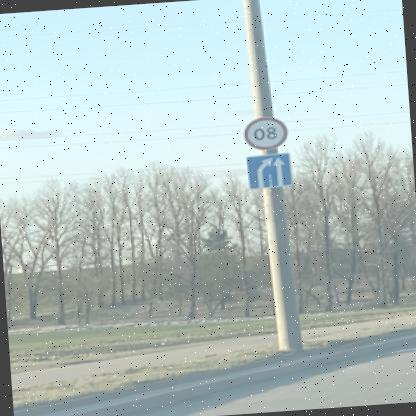speedlimit: (246, 113, 292, 150)
